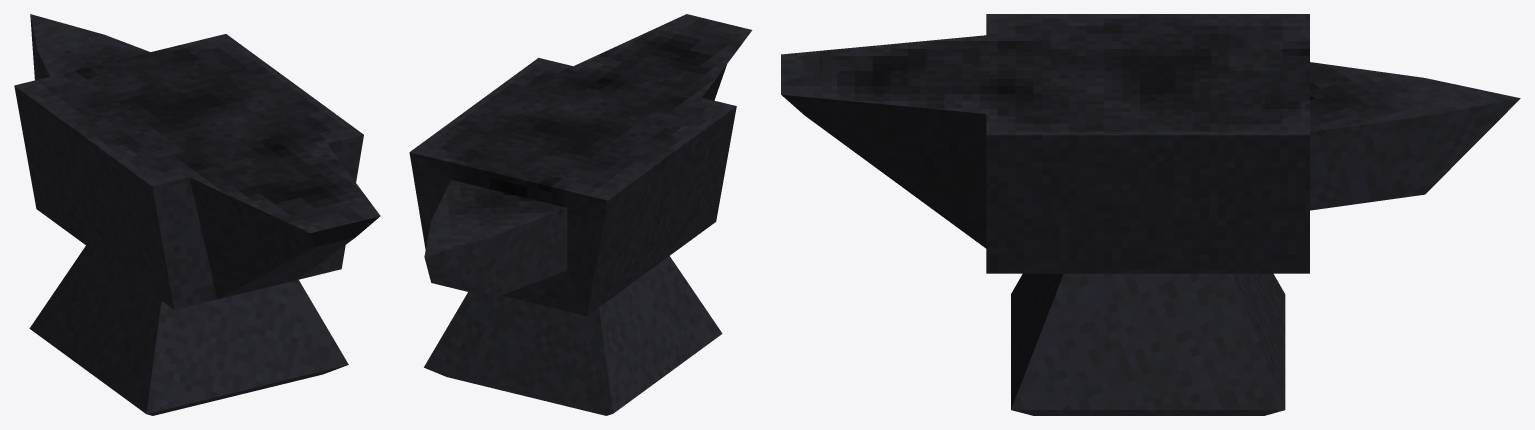
File: Anvil.fbx
3 renders of one model, left to right at view 1: azimuth 30°, elevation 25°; view 2: azimuth 150°, elevation 25°; view 3: azimuth 270°, elevation 25°, orthographic. The views are drawn at different scales.
Visible parts, largest first — view 1: Anvil; view 2: Anvil; view 3: Anvil.
Boxes of the visible parts, x1,y1,x2,y2 form: Anvil: (14, 14, 380, 415); Anvil: (409, 14, 752, 415); Anvil: (781, 14, 1520, 415).
Bounding box in the file's own units: 32.33 × 37.11 × 83.37.
Materials: 1 (1 with a texture image).
